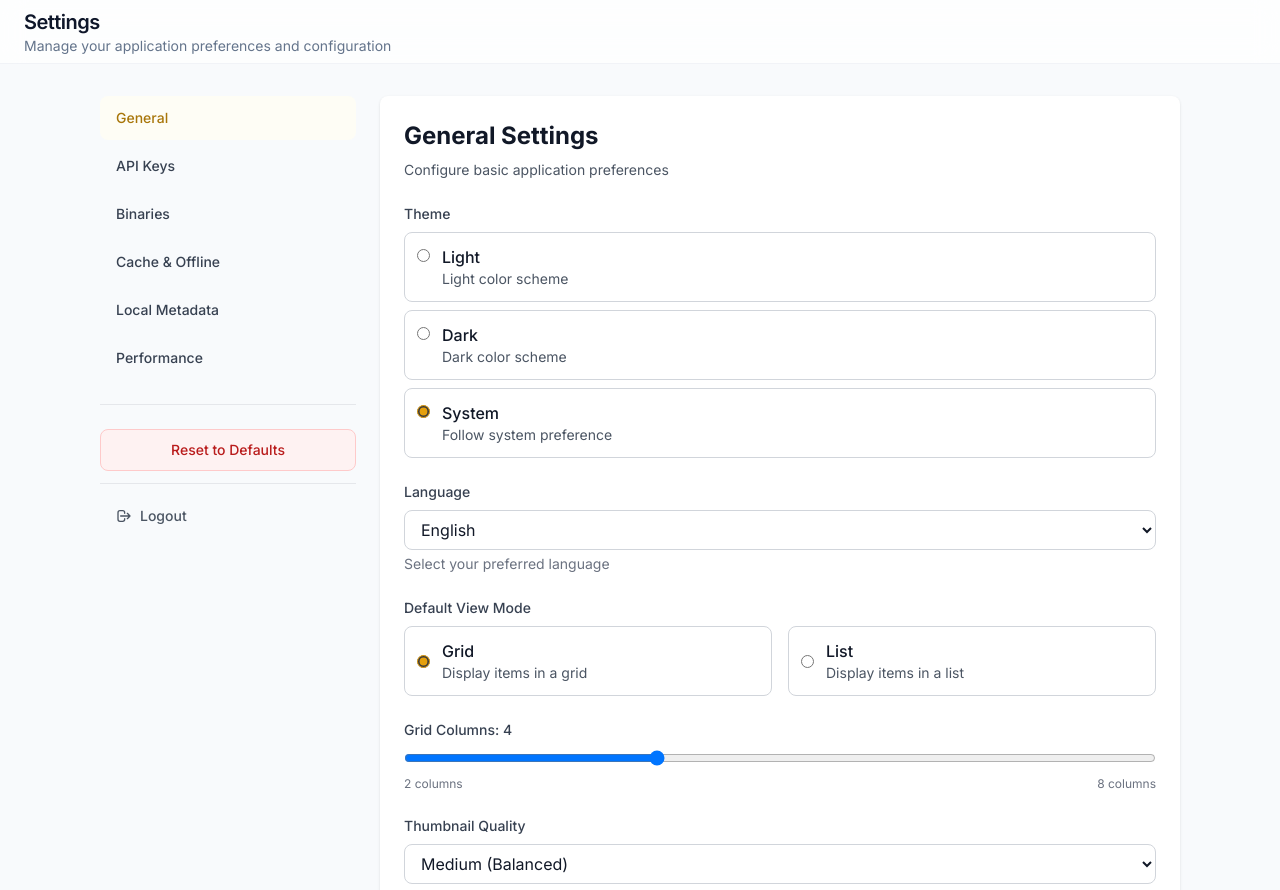
Test: SettingsView › should switch between tabs
expect the heading "General Settings" is shown: met, box [404,121,598,150]
Click the button "Cache & Offline" at (228, 262), box [100,240,356,284]
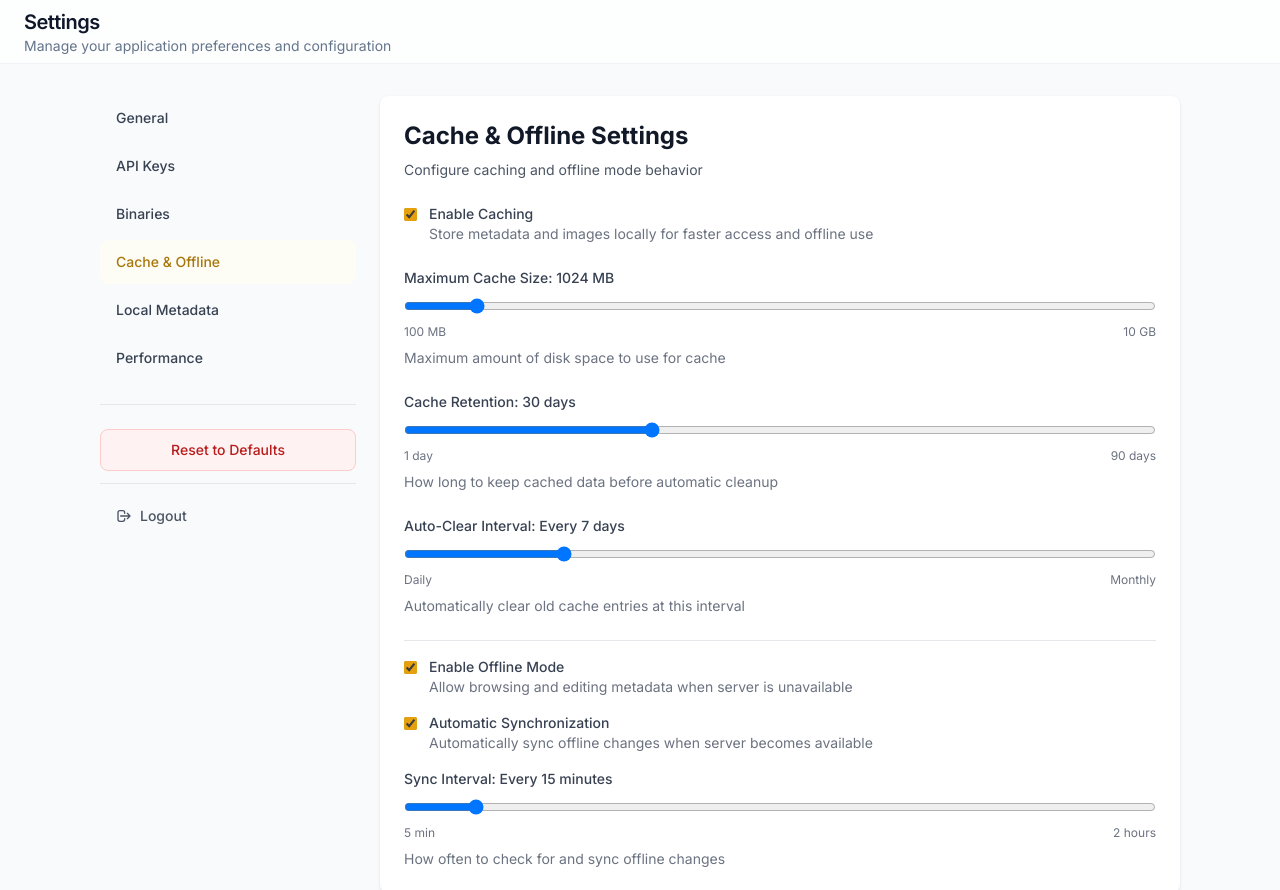
expect the heading "Cache & Offline Settings" is shown: met, box [404,121,688,150]
